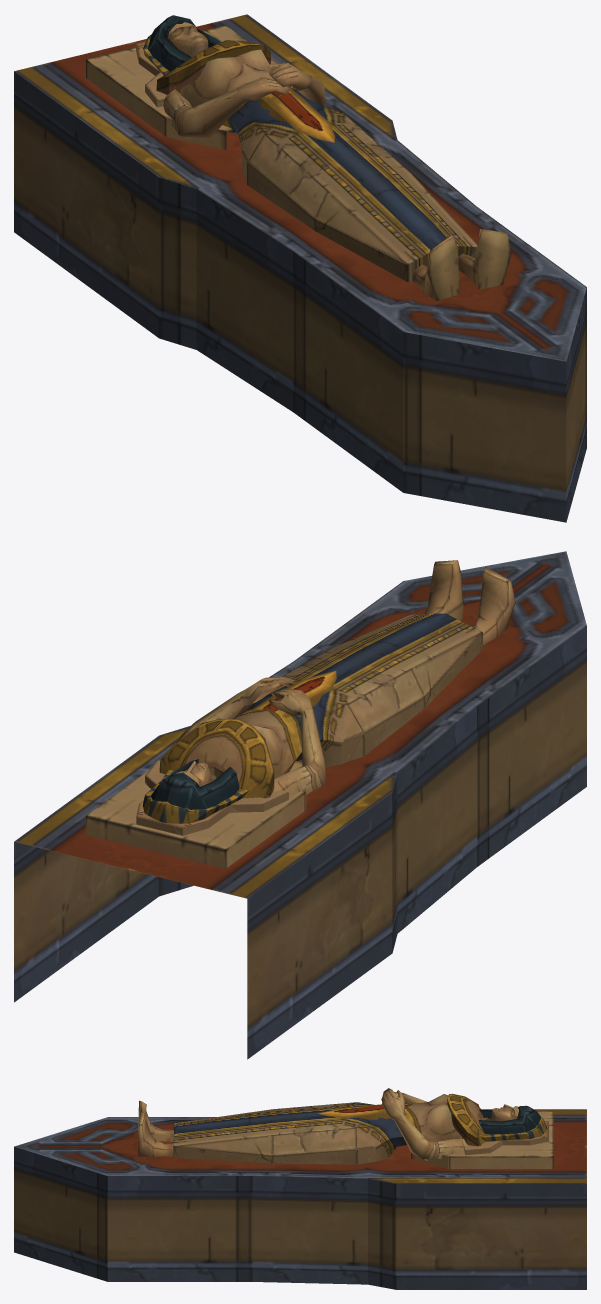
The model's file is 2_DG_DiGongPeiJian_03.FBX.
The picture shows the model from 3 angles, top to bottom: view 1: azimuth 30°, elevation 25°; view 2: azimuth 150°, elevation 25°; view 3: azimuth 270°, elevation 25°; orthographic projection. The views are drawn at different scales.
Parts seen in each view (by area): view 1: 2_DG_DiGongPeiJian_03; view 2: 2_DG_DiGongPeiJian_03; view 3: 2_DG_DiGongPeiJian_03.
Boxes of the visible parts, bbox=[...] form: 2_DG_DiGongPeiJian_03: bbox=[14, 14, 586, 522]; 2_DG_DiGongPeiJian_03: bbox=[14, 551, 586, 1059]; 2_DG_DiGongPeiJian_03: bbox=[14, 1088, 586, 1289].
Size of the model in its own units: 162 by 162 by 523.
Materials: 1 (1 with a texture image).
